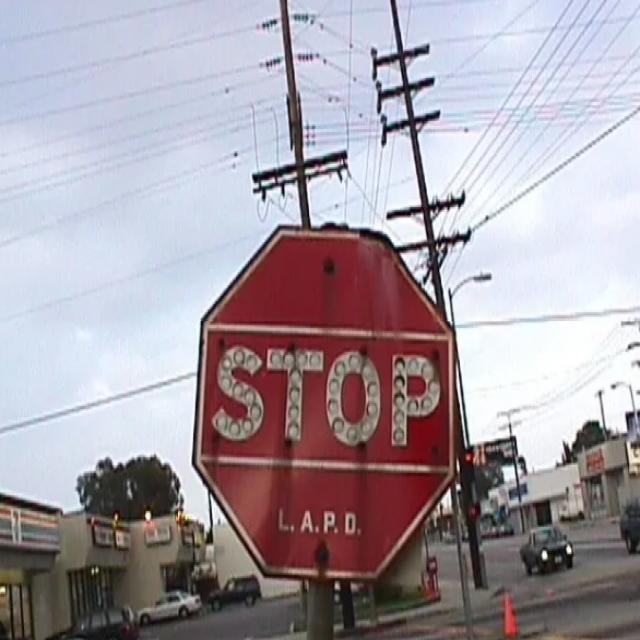stop-sign: (232, 266, 448, 534)
